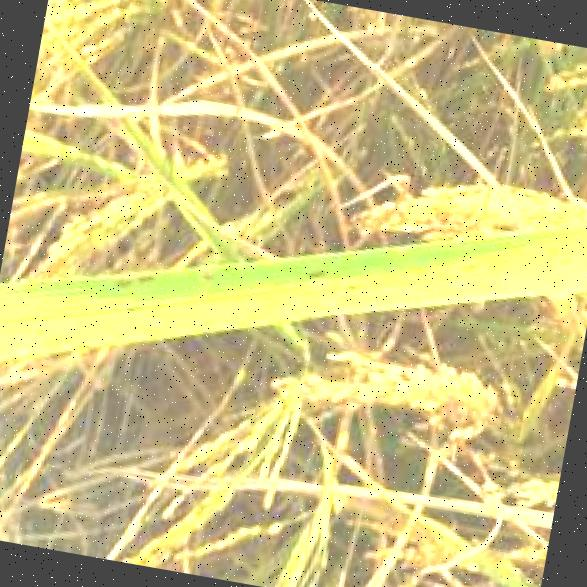Brown_Spot: (96, 258, 162, 322), (4, 318, 56, 360), (548, 244, 586, 278), (442, 248, 484, 274), (294, 257, 326, 280)
